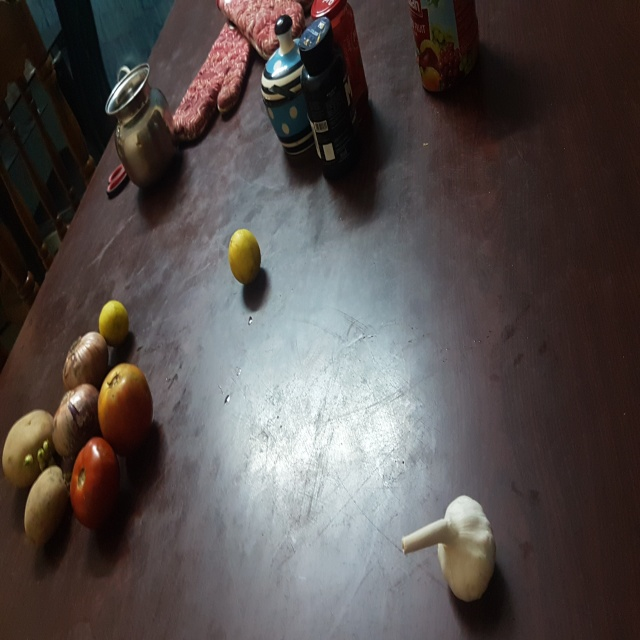garlic: (388, 484, 513, 606)
lemon: (225, 225, 267, 283), (94, 297, 133, 346)
onion: (50, 385, 113, 460), (61, 333, 117, 397)
potato: (3, 408, 63, 493), (23, 463, 75, 552)
tomato: (92, 362, 163, 447), (67, 435, 127, 526)
